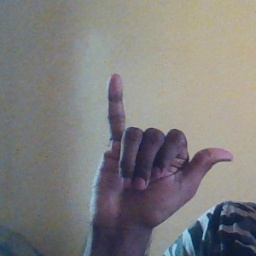J: (94, 70, 236, 226)
